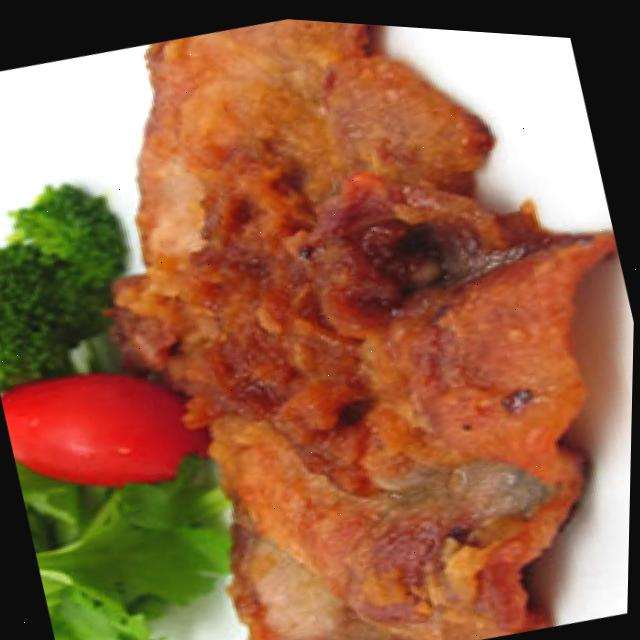猪肉菜式: (13, 1, 640, 640)
